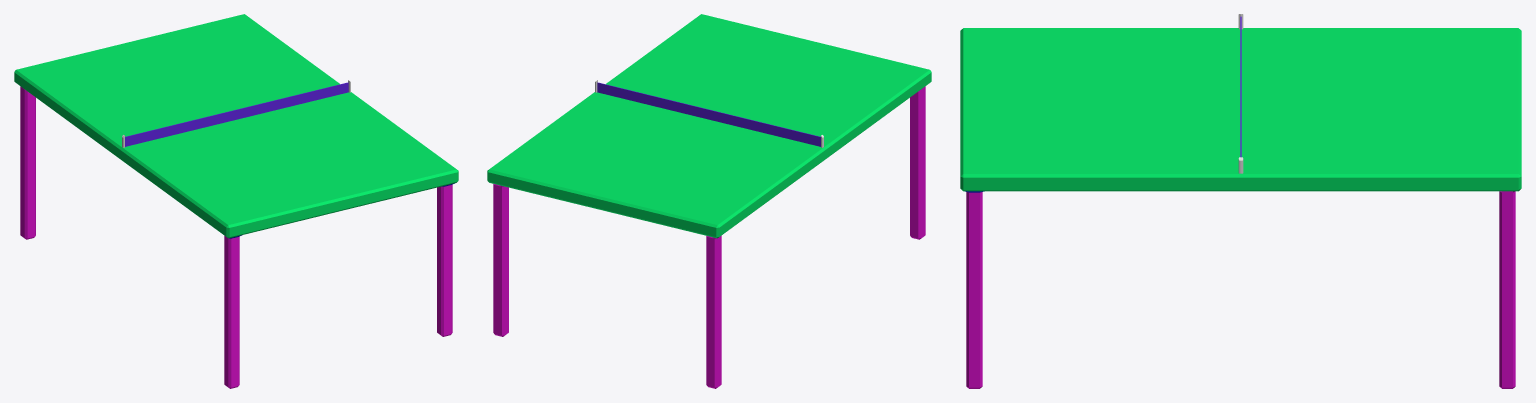
The model's file is table ping pong.fbx.
The picture shows the model from 3 angles, left to right: view 1: azimuth 30°, elevation 25°; view 2: azimuth 150°, elevation 25°; view 3: azimuth 270°, elevation 25°; orthographic projection. The views are drawn at different scales.
Parts seen in each view (by area): view 1: Cube, Cube.001, Cube.005; view 2: Cube, Cube.001, Cube.005; view 3: Cube, Cube.001.
Part boxes in pixels (x1,y1,x2,y2): Cube: (14, 14, 458, 238); Cube.001: (20, 86, 452, 388); Cube.005: (125, 82, 348, 146); Cube: (487, 14, 931, 238); Cube.001: (493, 86, 925, 388); Cube.005: (597, 82, 820, 146); Cube: (960, 28, 1521, 191); Cube.001: (966, 191, 1515, 388).
Bounding box in the file's own units: 375 × 275 × 600.
